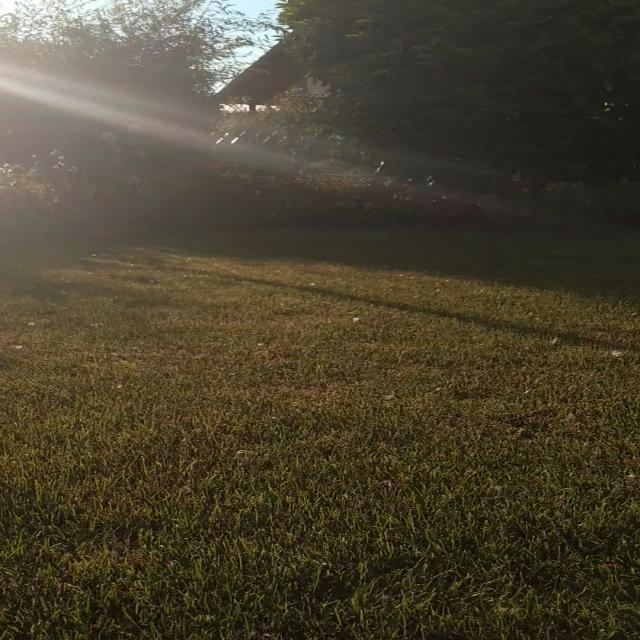lawn: (0, 228, 640, 640)
